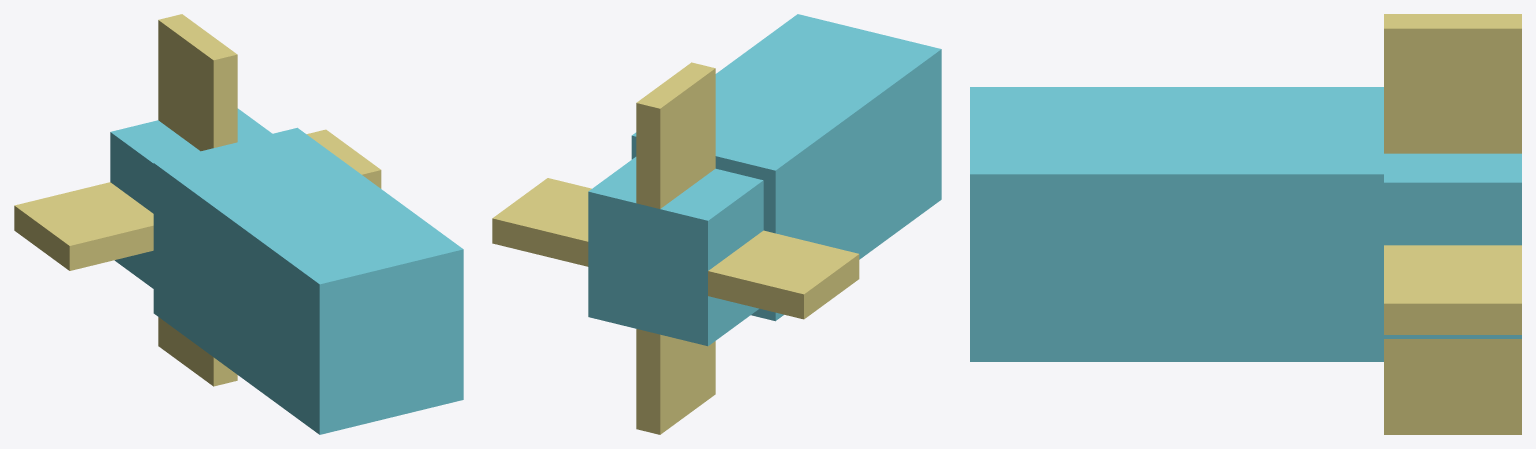
Rendered from BottleRocketA.fbx.
The picture shows the model from 3 angles, left to right: view 1: azimuth 30°, elevation 25°; view 2: azimuth 150°, elevation 25°; view 3: azimuth 270°, elevation 25°; orthographic projection. The views are drawn at different scales.
Parts seen in each view (by area): view 1: Cube.001, Cube.004, Cube.003, Cube.002, Cube.005, Cube.007; view 2: Cube.001, Cube.002, Cube.004, Cube.003, Cube.005, Cube.007; view 3: Cube.001, Cube.004, Cube.002, Cube.005, Cube.007.
Boxes of the visible parts, x1=… form: Cube.001: x1=153, y1=127, x2=463, y2=434; Cube.004: x1=158, y1=14, x2=237, y2=151; Cube.003: x1=14, y1=182, x2=153, y2=270; Cube.002: x1=110, y1=108, x2=272, y2=288; Cube.005: x1=158, y1=317, x2=237, y2=386; Cube.007: x1=306, y1=129, x2=381, y2=188; Cube.001: x1=631, y1=14, x2=941, y2=321; Cube.002: x1=588, y1=157, x2=763, y2=346; Cube.004: x1=636, y1=62, x2=715, y2=208; Cube.003: x1=708, y1=230, x2=859, y2=319; Cube.005: x1=636, y1=329, x2=715, y2=434; Cube.007: x1=492, y1=178, x2=591, y2=266; Cube.001: x1=970, y1=87, x2=1383, y2=361; Cube.004: x1=1384, y1=14, x2=1521, y2=153; Cube.002: x1=1384, y1=153, x2=1521, y2=338; Cube.005: x1=1384, y1=339, x2=1521, y2=434; Cube.007: x1=1384, y1=245, x2=1521, y2=334.
Size of the model in its own units: 130 by 130 by 160.
